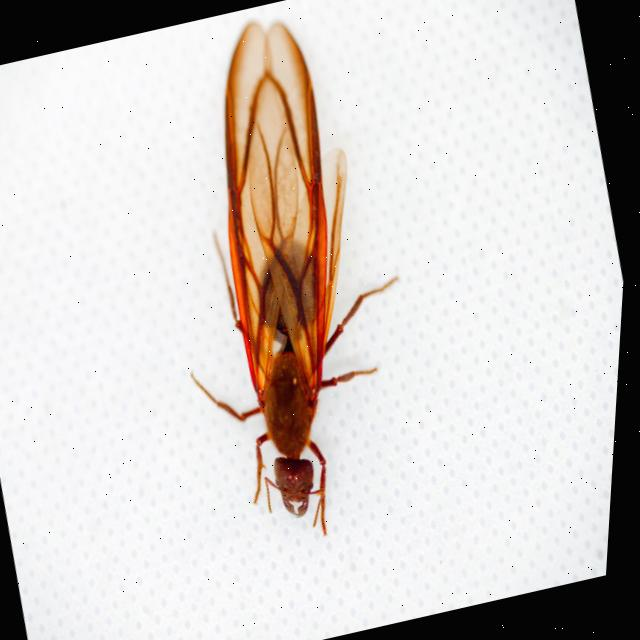Alive-Female-Alate: (110, 0, 468, 560)
